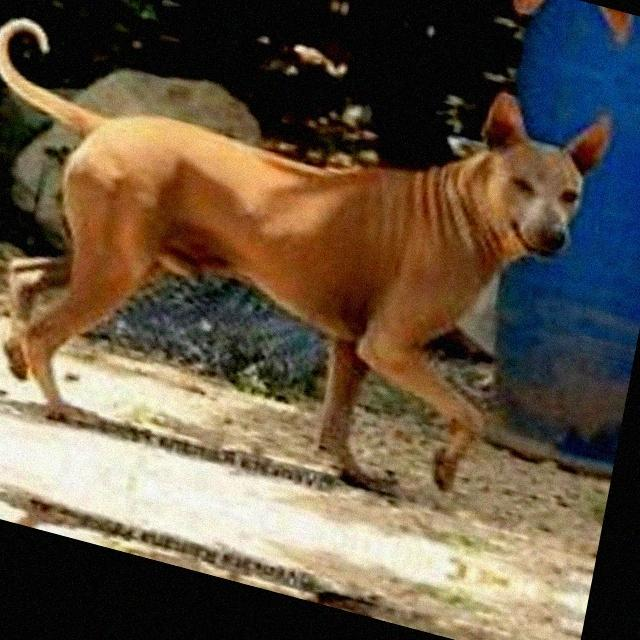dog: (0, 0, 631, 590), (0, 428, 545, 640)
